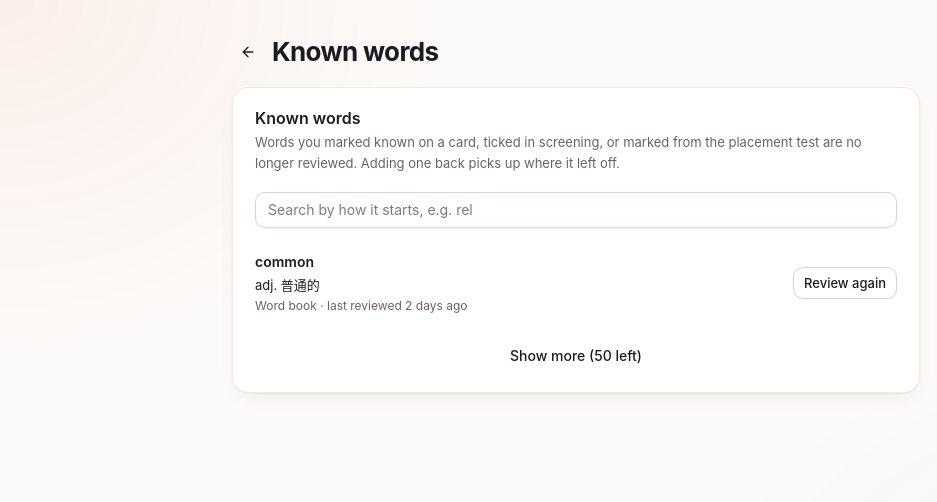
KnownApp › searches by how the word starts, and pages
Expected: the list item with test id "known-common" is shown, [255,240,897,326]
Click the button "Show more (50 left)": coordinates (576, 356) [495,338,657,374]
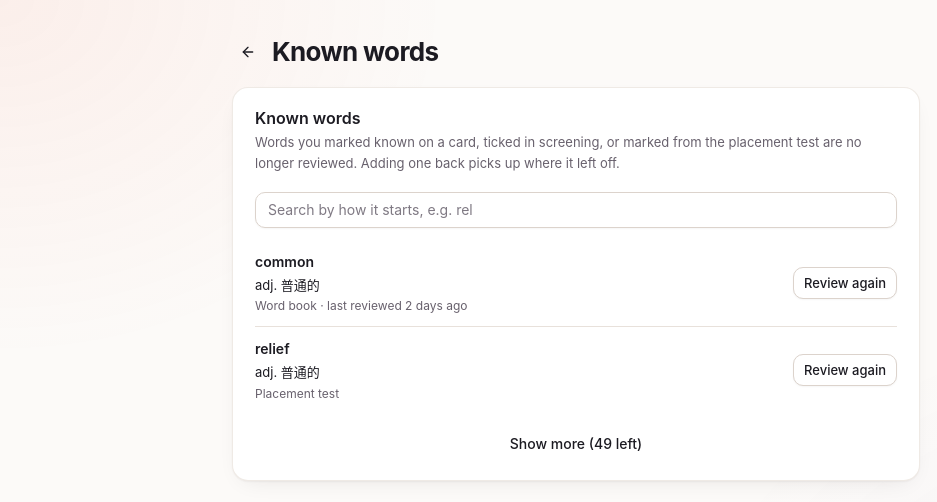
Now the list item with test id "known-relief" is shown, box [255,327,897,414]
In the search field named "Search words": coordinates (576, 210) [255,192,897,228], type "rel"
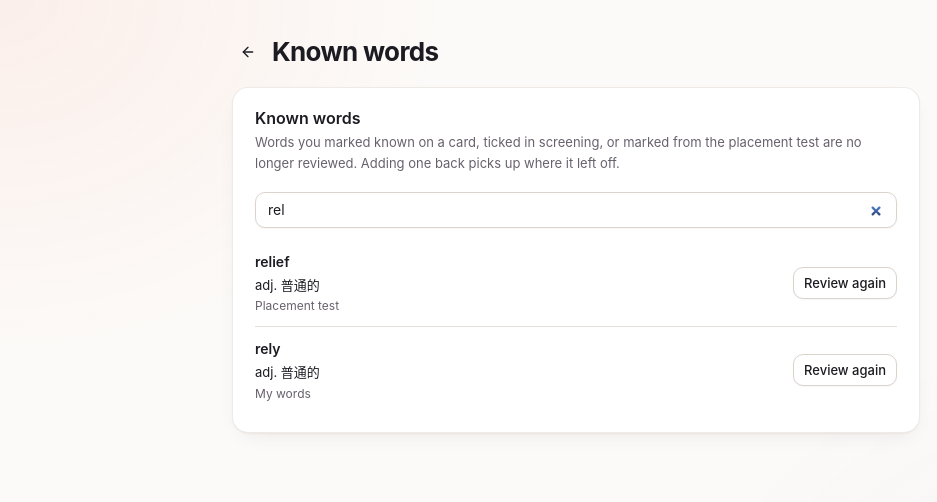
Now the list item with test id "known-common" is gone
Now the list item with test id "known-rely" is shown, box [255,327,897,414]
In the search field: coordinates (576, 210) [255,192,897,228], type "x"
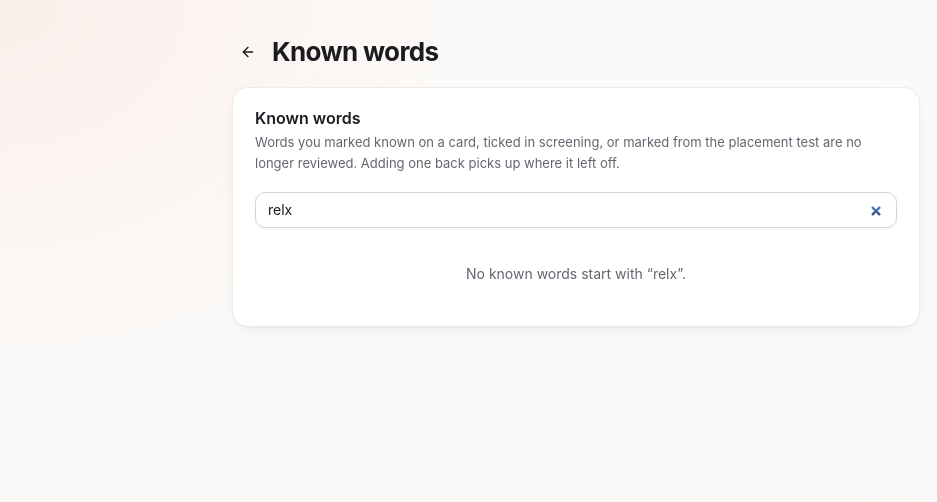
Now the text "No known words start with “relx”." is shown, box [466,265,686,282]
